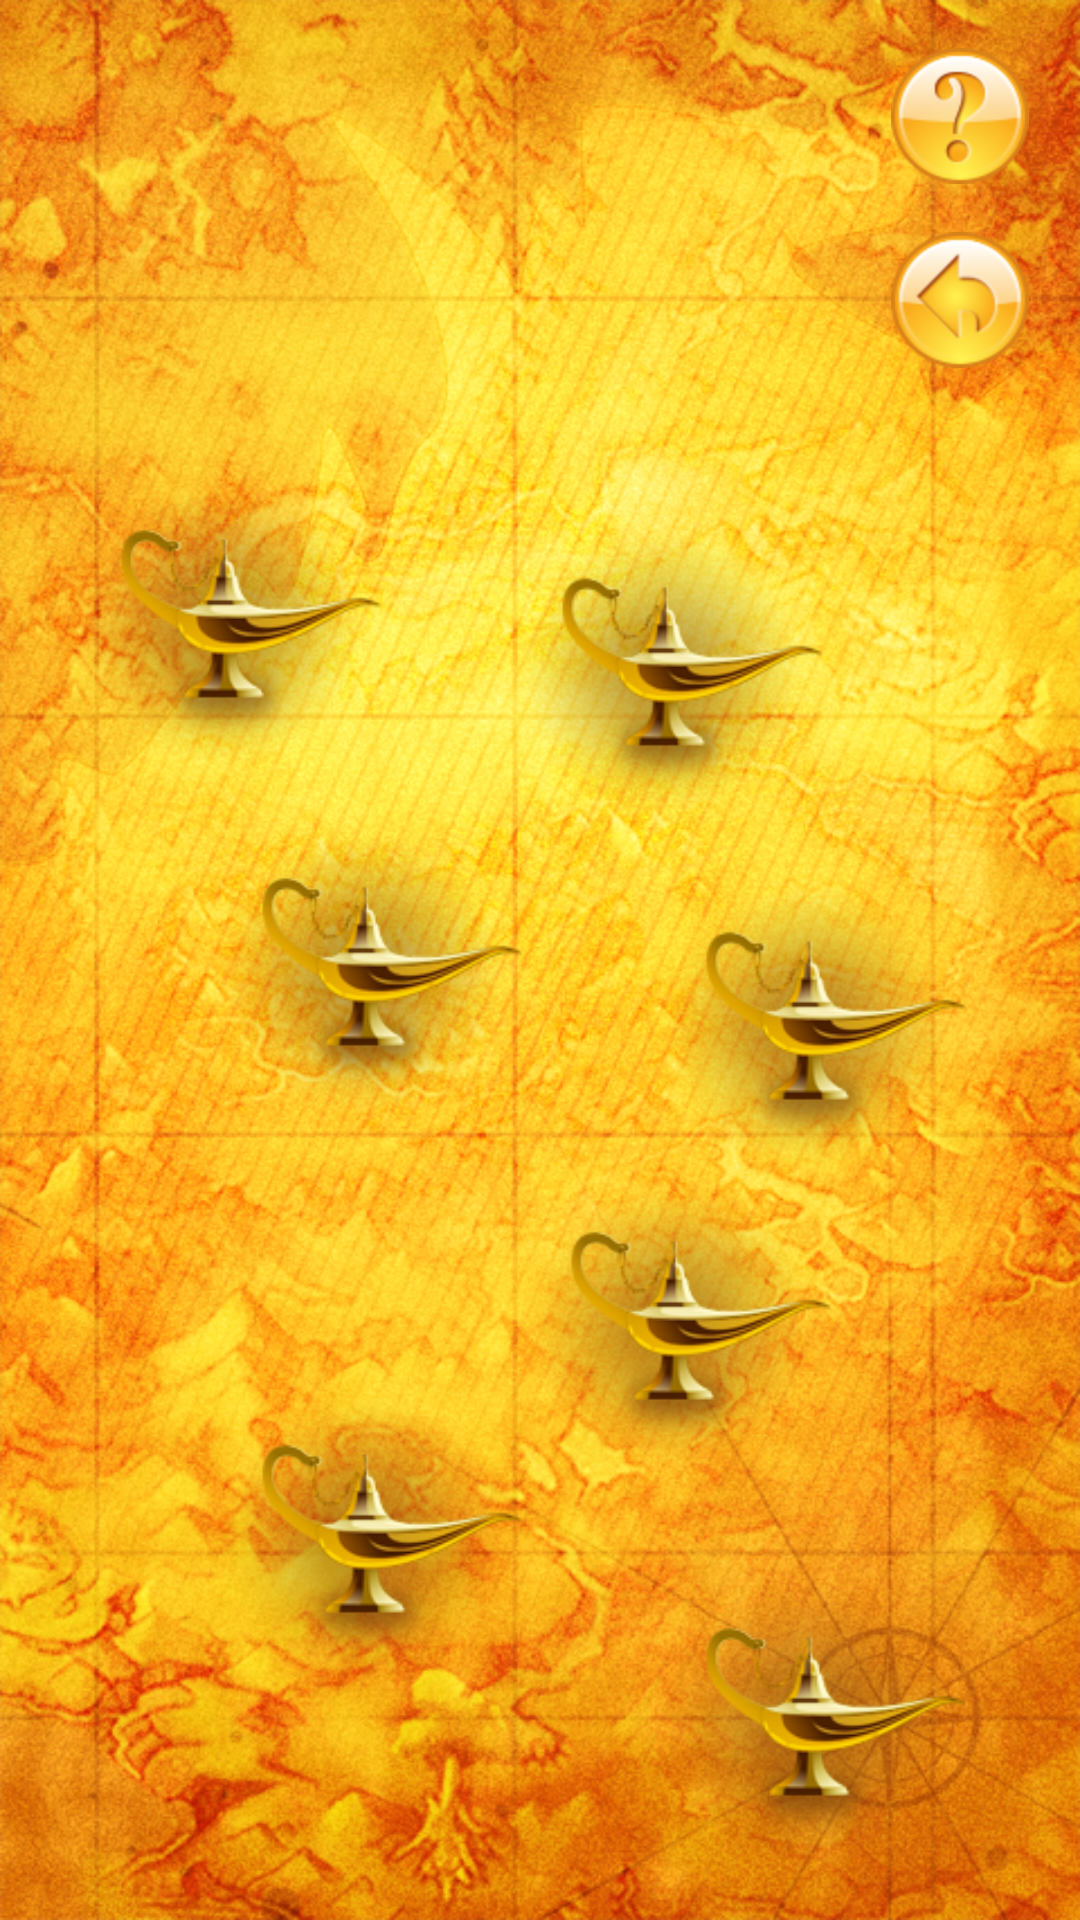

Where to tap for icons on this 1080x1920 app screen, as point (x, y):
back: point (960, 300)
lam over: point (231, 624), point (672, 672), point (372, 972), point (816, 1026), point (681, 1326), point (372, 1539), point (816, 1722)
question mark: point (960, 116)
